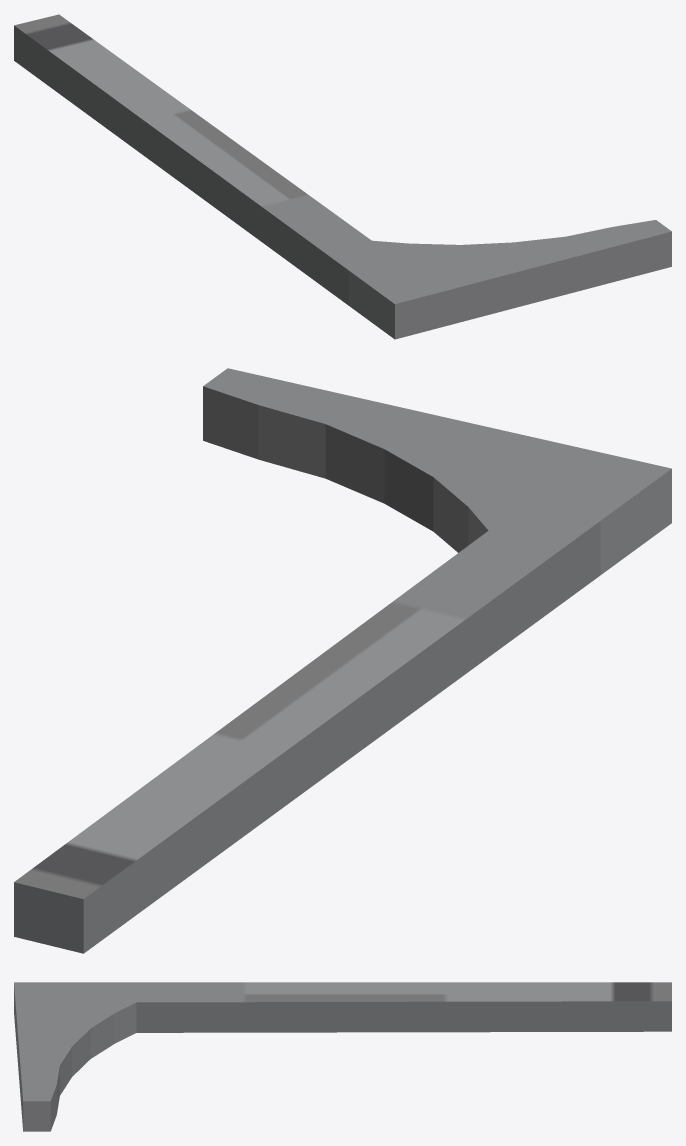
The picture shows the model from 3 angles, top to bottom: view 1: azimuth 30°, elevation 25°; view 2: azimuth 150°, elevation 25°; view 3: azimuth 270°, elevation 25°; orthographic projection. The views are drawn at different scales.
Bounding box in the file's own units: 0.92 × 0.11 × 2.15.
